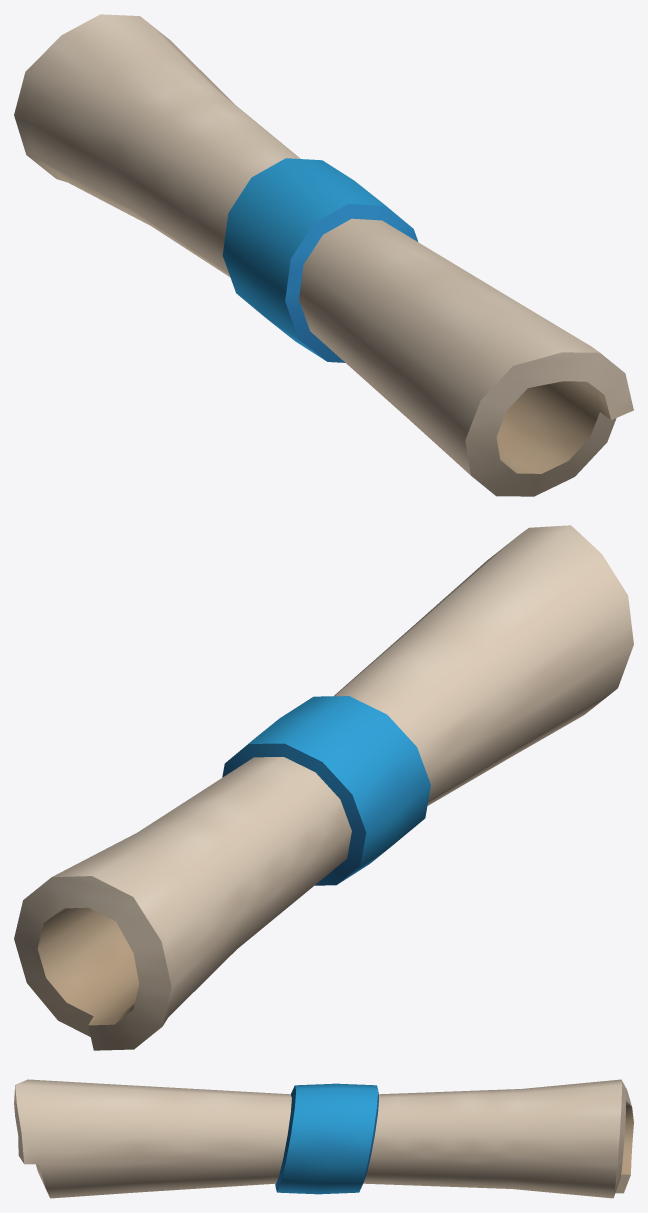
File: map-rolled.glb
3 views of the same model, one above another, from view 1: azimuth 30°, elevation 25°; view 2: azimuth 150°, elevation 25°; view 3: azimuth 270°, elevation 25° (orthographic). The views are drawn at different scales.
Visible parts, largest first — view 1: map_rolled; view 2: map_rolled; view 3: map_rolled.
Part boxes in pixels (x1=…): map_rolled: x1=14, y1=14, x2=633, y2=496; map_rolled: x1=14, y1=525, x2=633, y2=1050; map_rolled: x1=14, y1=1079, x2=633, y2=1198.
Size of the model in its own units: 0.2397 by 0.2381 by 1.22.
1 material, 1 textured.
